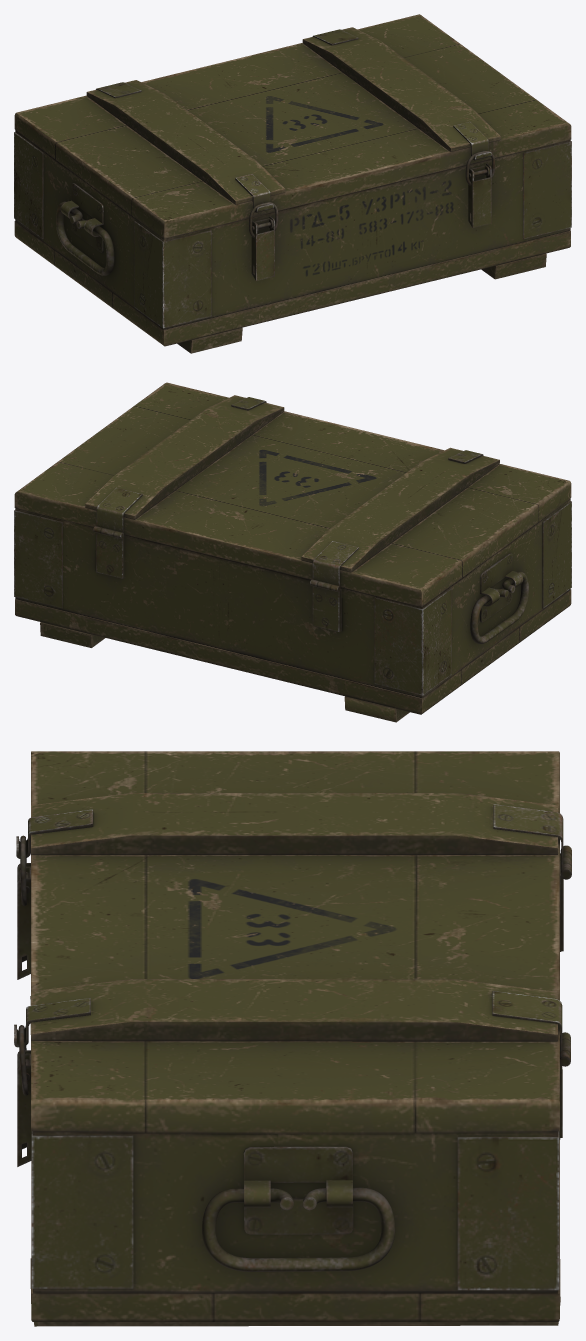
File: military_crate.glb
The picture shows the model from 3 angles, top to bottom: view 1: azimuth 30°, elevation 25°; view 2: azimuth 150°, elevation 25°; view 3: azimuth 270°, elevation 25°; orthographic projection. The views are drawn at different scales.
Parts seen in each view (by area): view 1: Weapon_Crate_Low_0; view 2: Weapon_Crate_Low_0; view 3: Weapon_Crate_Low_0.
Part boxes in pixels (x1,y1,x2,y2): Weapon_Crate_Low_0: (14, 14, 571, 353); Weapon_Crate_Low_0: (14, 382, 571, 722); Weapon_Crate_Low_0: (14, 751, 571, 1326).
Bounding box in the file's own units: 0.501 × 0.1648 × 0.3146.
1 material, 1 textured.
